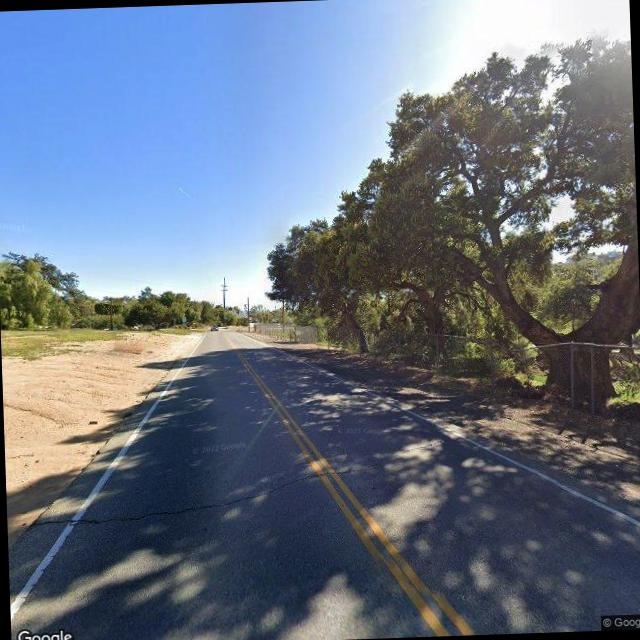crack: (33, 462, 385, 531)
